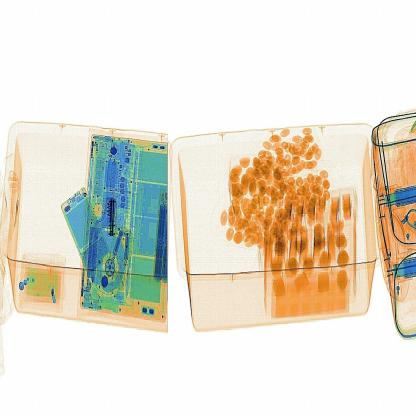scissors: (96, 186, 136, 246)
